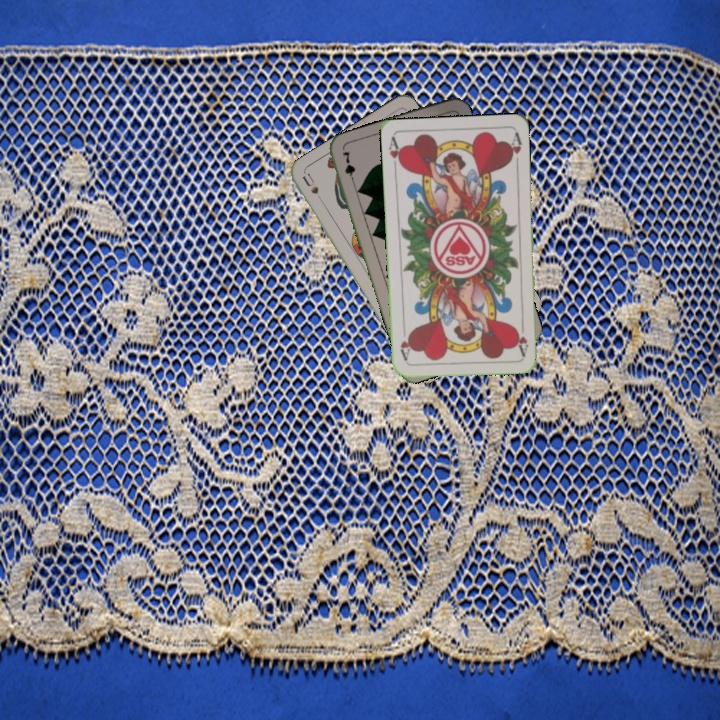G7: (338, 147, 358, 188)
HA: (384, 134, 405, 175), (514, 317, 531, 358)
SU: (298, 169, 321, 197)
